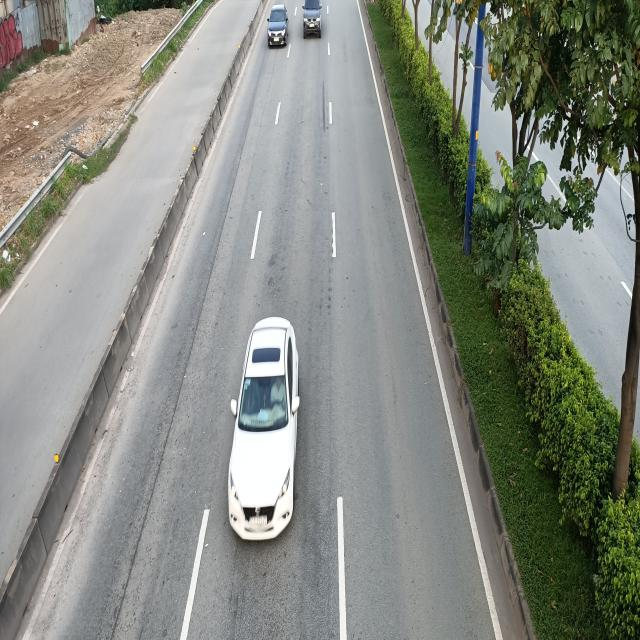car: (228, 319, 304, 544), (268, 4, 290, 48), (302, 0, 324, 37)
